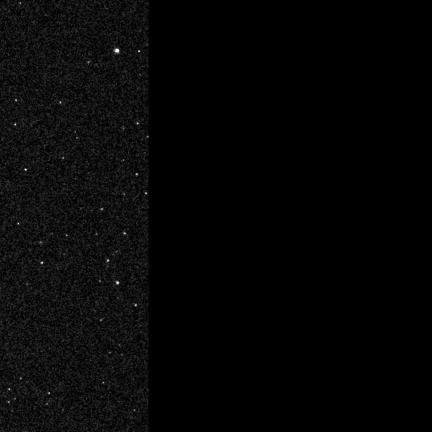blob: (114, 49, 119, 53), (116, 281, 120, 285), (14, 123, 17, 127), (100, 208, 104, 211), (124, 232, 127, 235), (15, 99, 18, 102), (135, 304, 138, 307), (107, 260, 110, 262), (60, 102, 62, 105), (136, 173, 138, 176), (137, 122, 139, 125), (25, 169, 27, 171)
